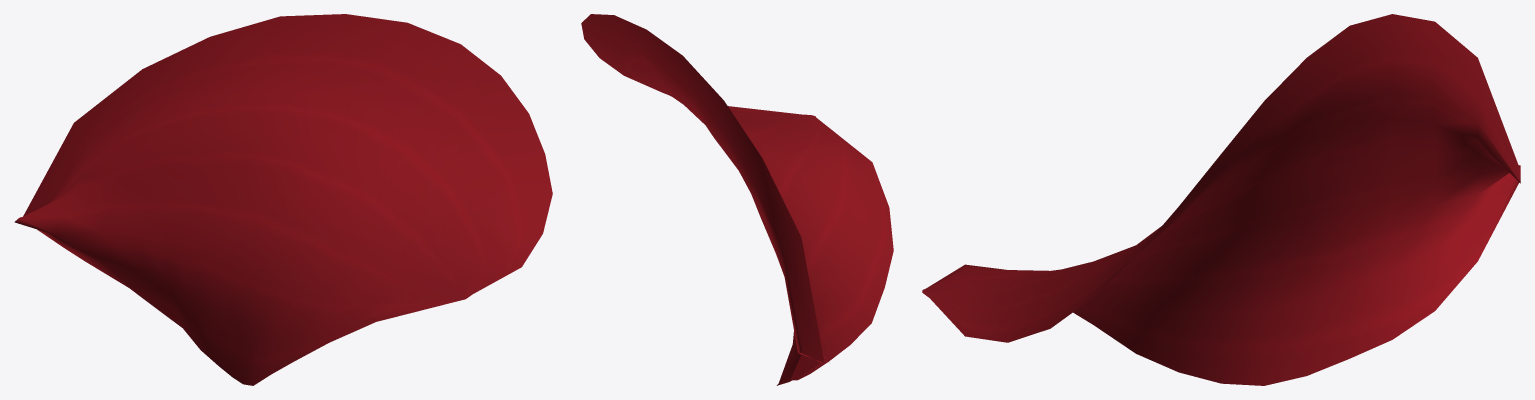
The model's file is petal_18_twisted.glb.
3 views of the same model, side by side, from view 1: azimuth 30°, elevation 25°; view 2: azimuth 150°, elevation 25°; view 3: azimuth 270°, elevation 25° (orthographic). The views are drawn at different scales.
Parts seen in each view (by area): view 1: petal_18_twisted; view 2: petal_18_twisted; view 3: petal_18_twisted.
Part boxes in pixels (bbox=[...]): petal_18_twisted: bbox=[14, 14, 552, 385]; petal_18_twisted: bbox=[581, 14, 893, 385]; petal_18_twisted: bbox=[922, 14, 1520, 385].
Size of the model in its own units: 0.0892 by 0.0693 by 0.0885.
Materials: 1 (1 with a texture image).
